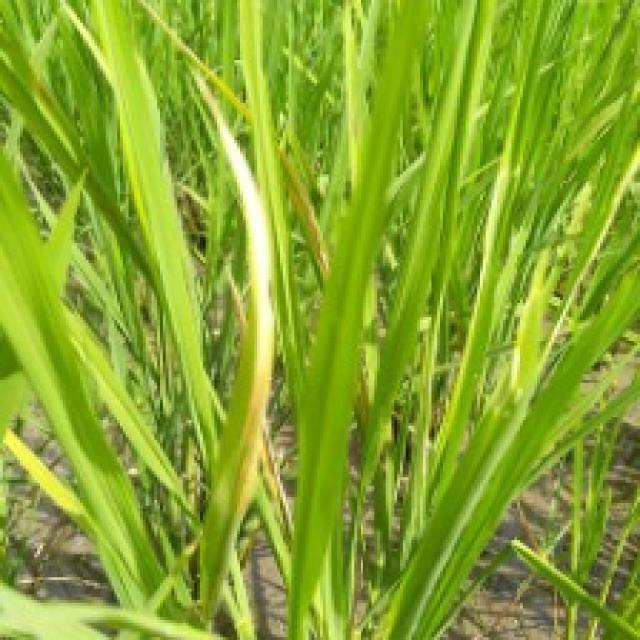Rice___Bacterial_Leaf_Blight: (185, 62, 282, 627)
